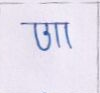aa_matra: (65, 24, 69, 47)
